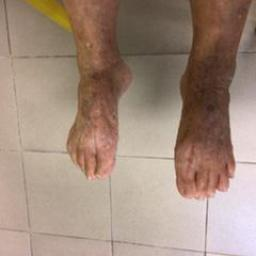Dorsal View -Both Feet-: (53, 6, 252, 204)
